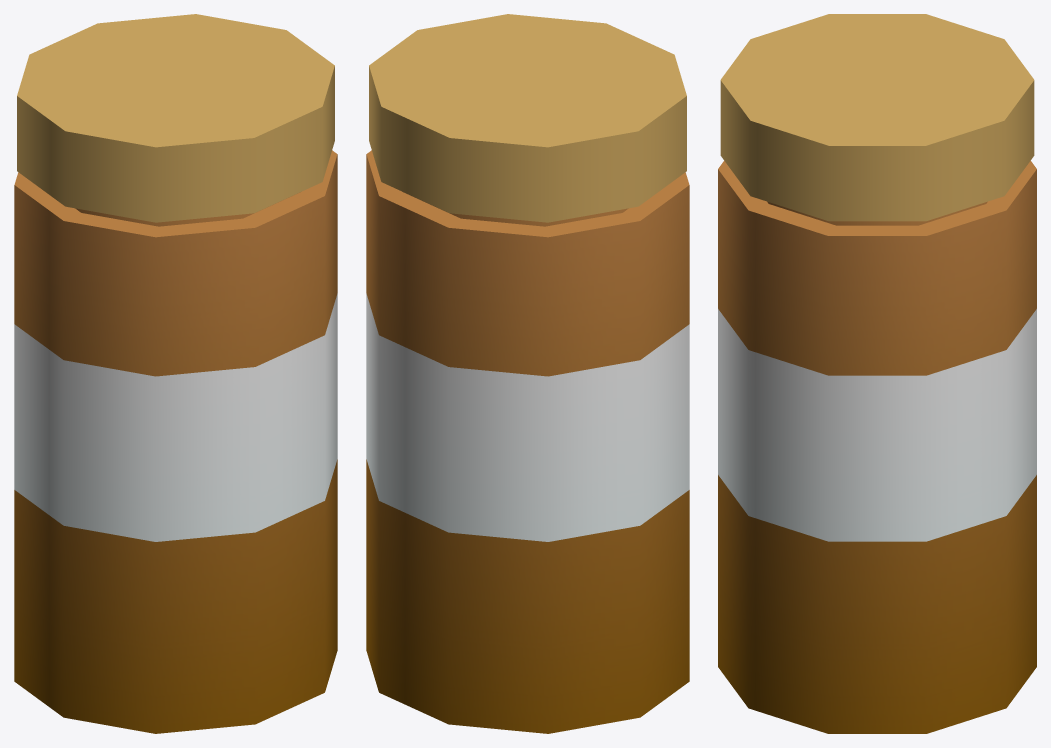
File: flask_coffee.fbx
The picture shows the model from 3 angles, left to right: view 1: azimuth 30°, elevation 25°; view 2: azimuth 150°, elevation 25°; view 3: azimuth 270°, elevation 25°; orthographic projection.
Parts seen in each view (by area): view 1: flask_coffee; view 2: flask_coffee; view 3: flask_coffee.
Part boxes in pixels (x1,y1,x2,y2): flask_coffee: (14,14,337,733); flask_coffee: (366,14,689,733); flask_coffee: (718,14,1036,733).
Bounding box in the file's own units: 133 × 272 × 134.
